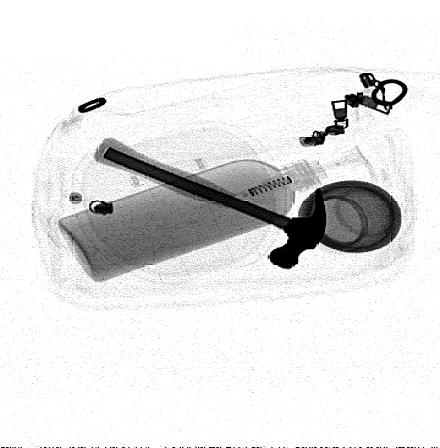Hammer: (91, 137, 329, 269)
